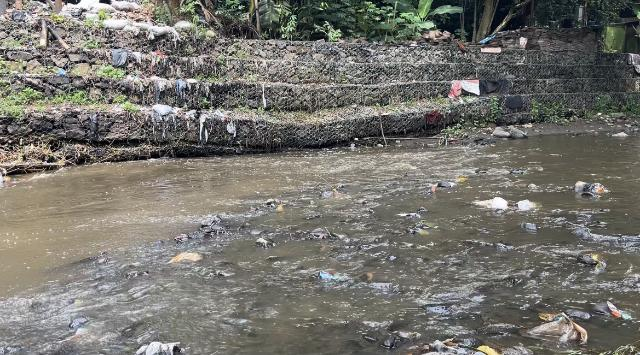Sampah Anorganik: (530, 311, 589, 347), (569, 178, 611, 200), (472, 197, 511, 212), (605, 300, 634, 320), (316, 268, 348, 285), (516, 198, 539, 213), (394, 213, 423, 223), (453, 176, 468, 182)
Sampah Organik: (408, 334, 502, 355), (589, 251, 609, 268), (171, 255, 205, 265), (413, 226, 435, 236), (328, 190, 346, 201), (171, 235, 190, 242), (277, 205, 287, 215), (429, 185, 436, 193)
